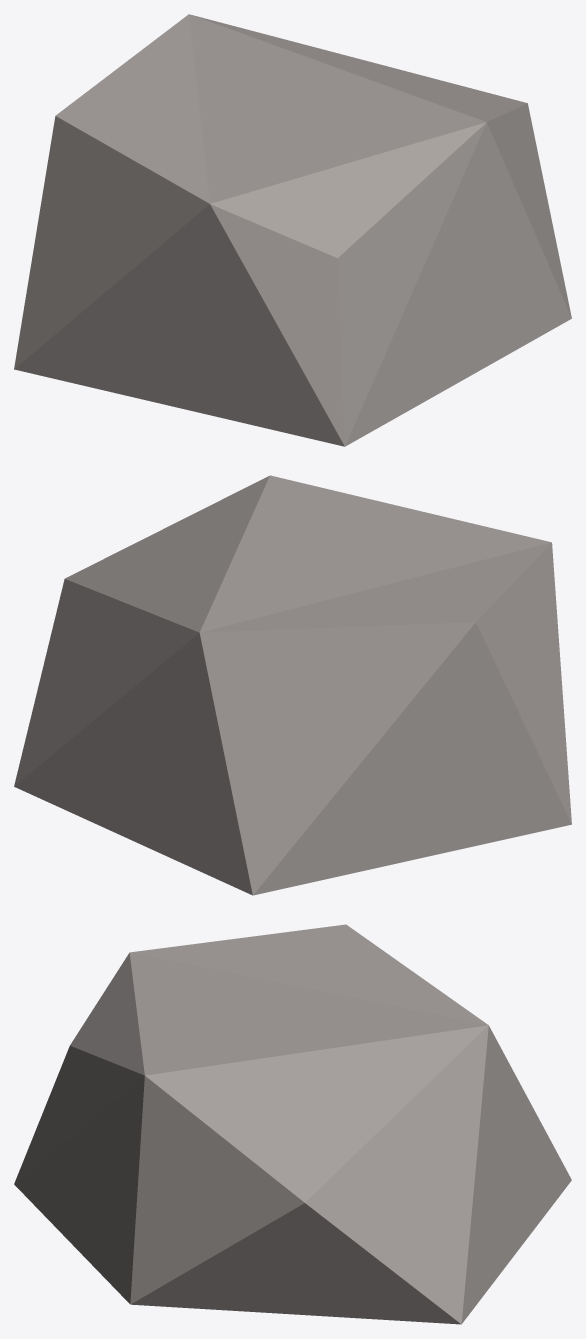
Rendered from Rock_02.fbx.
3 renders of one model, top to bottom at view 1: azimuth 30°, elevation 25°; view 2: azimuth 150°, elevation 25°; view 3: azimuth 270°, elevation 25°, orthographic. The views are drawn at different scales.
Visible parts, largest first — view 1: Rock_02; view 2: Rock_02; view 3: Rock_02.
Part boxes in pixels (x1=…): Rock_02: x1=14, y1=14, x2=571, y2=446; Rock_02: x1=14, y1=475, x2=571, y2=895; Rock_02: x1=14, y1=924, x2=571, y2=1324.
Size of the model in its own units: 1.59 by 0.7726 by 1.59.
